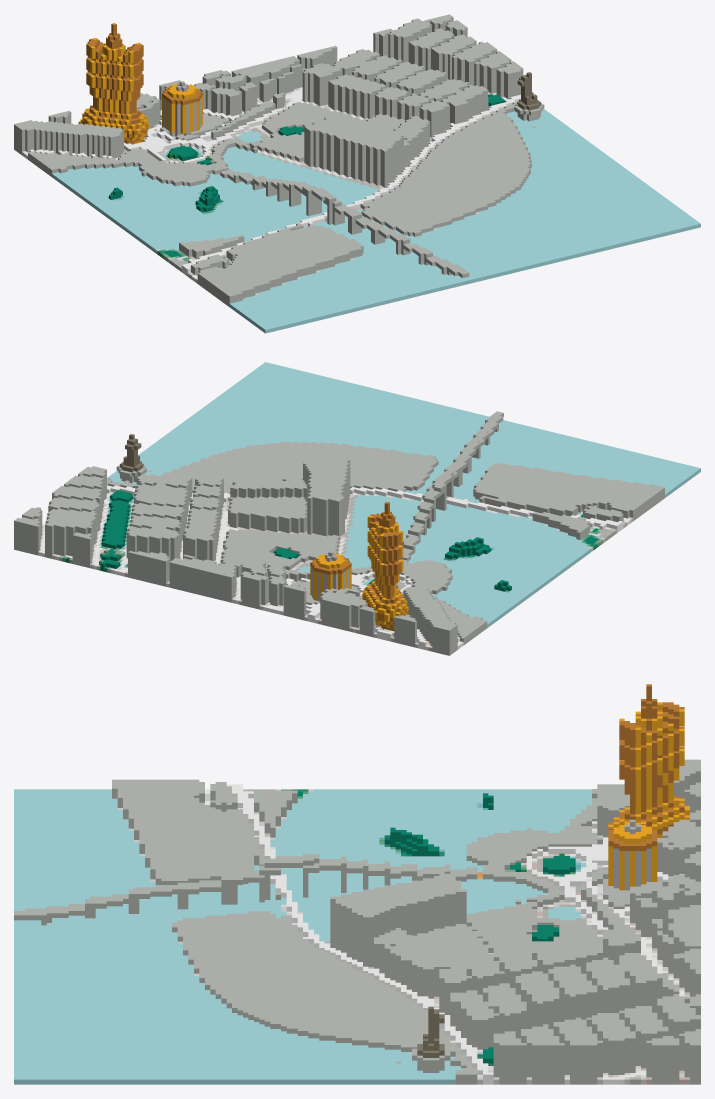
The model's file is 210519newbigMacaumap-8.obj.
3 views of the same model, one above another, from view 1: azimuth 30°, elevation 25°; view 2: azimuth 150°, elevation 25°; view 3: azimuth 270°, elevation 25° (orthographic). The views are drawn at different scales.
Size of the model in its own units: 12.6 by 3.3 by 12.6.
Materials: 1 (1 with a texture image).
